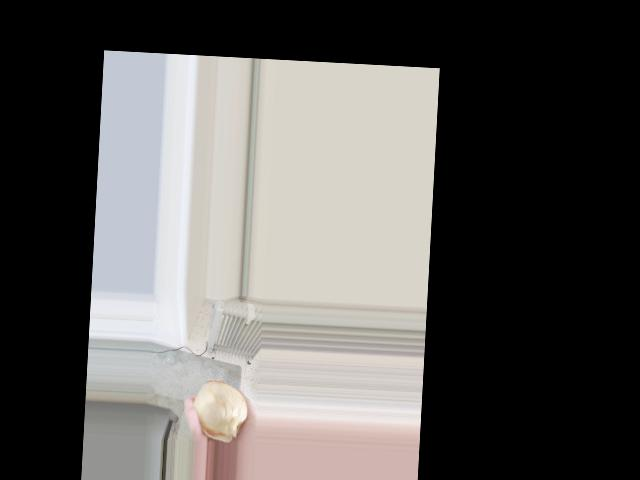onion: (192, 377, 252, 439)
